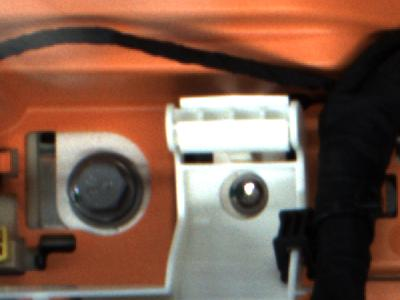nut_b: (61, 153, 152, 228)
